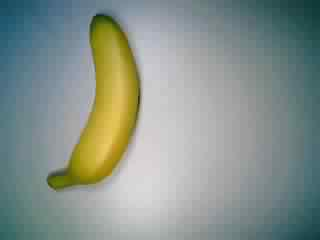banana: (42, 9, 146, 196)
